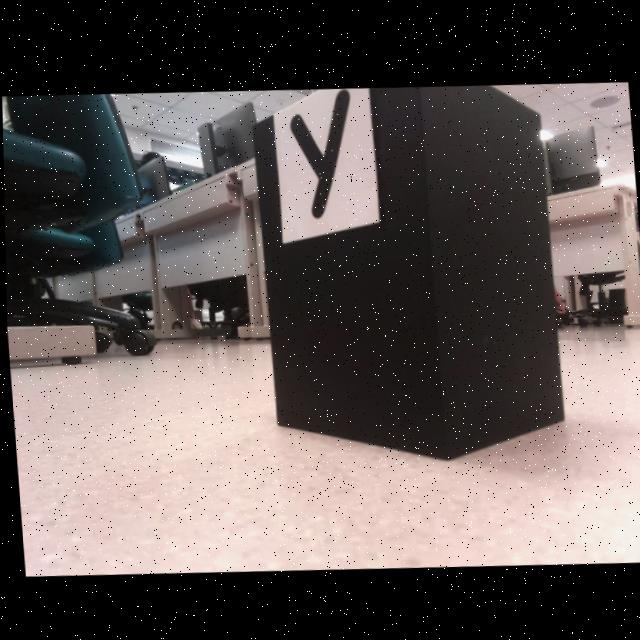Y: (291, 88, 349, 216)
